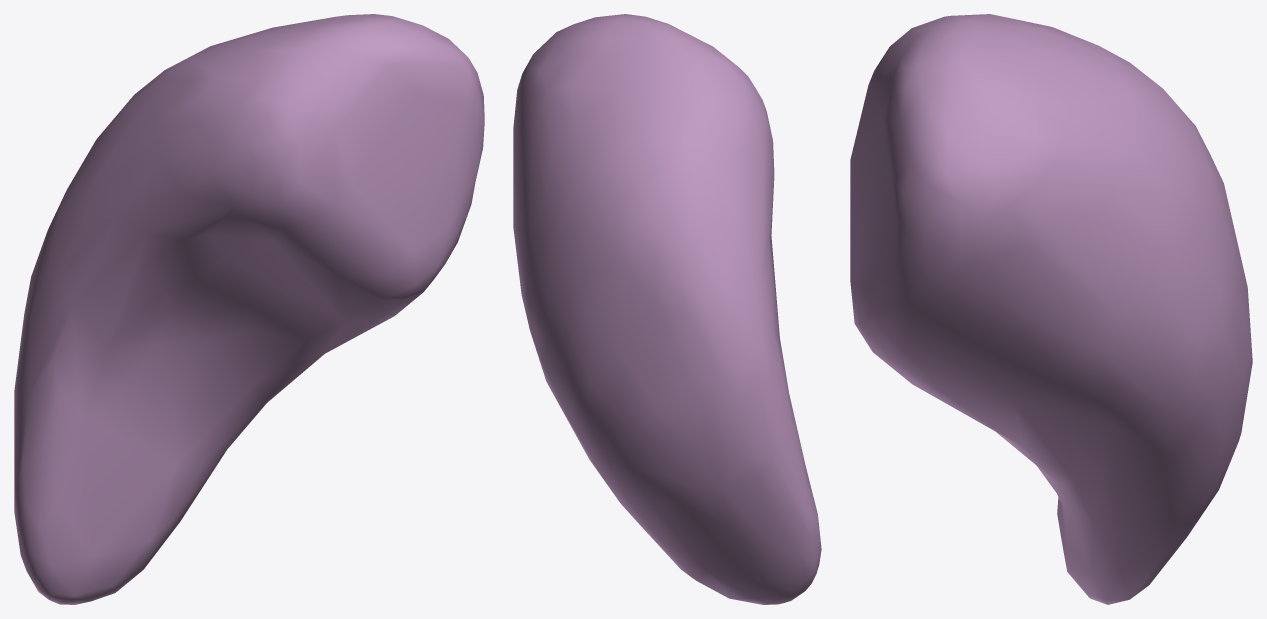
The picture shows the model from 3 angles, left to right: view 1: azimuth 30°, elevation 25°; view 2: azimuth 150°, elevation 25°; view 3: azimuth 270°, elevation 25°; orthographic projection. The views are drawn at different scales.
Parts seen in each view (by area): view 1: 右侧外侧膝状体; view 2: 右侧外侧膝状体; view 3: 右侧外侧膝状体.
Boxes of the visible parts, left/top/right/bottom form: 右侧外侧膝状体: left=14, top=14, right=484, bottom=604; 右侧外侧膝状体: left=513, top=14, right=821, bottom=604; 右侧外侧膝状体: left=850, top=14, right=1252, bottom=604.
Size of the model in its own units: 0.0121 by 0.0168 by 0.00918.
